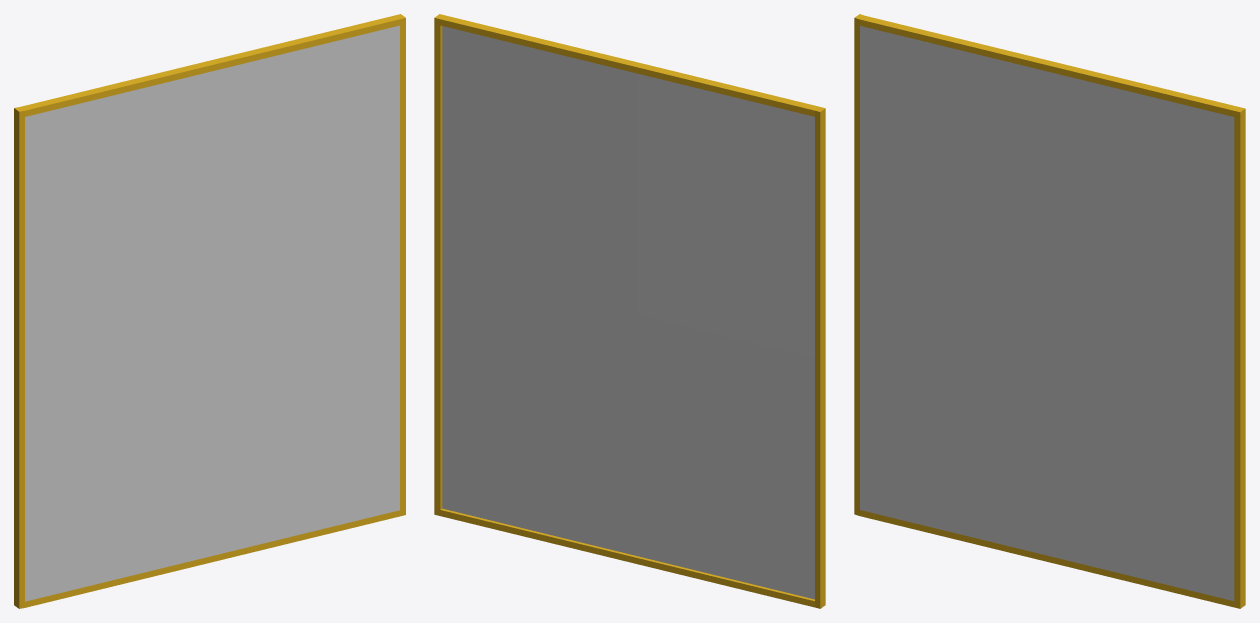
File: Painting_Simple_20x24.fbx
The picture shows the model from 3 angles, left to right: view 1: azimuth 30°, elevation 25°; view 2: azimuth 150°, elevation 25°; view 3: azimuth 330°, elevation 25°; orthographic projection.
Visible parts, largest first — view 1: Painting_Simple_20x24; view 2: Painting_Simple_20x24; view 3: Painting_Simple_20x24.
Boxes of the visible parts, x1=… form: Painting_Simple_20x24: x1=14, y1=14, x2=405, y2=608; Painting_Simple_20x24: x1=434, y1=14, x2=825, y2=608; Painting_Simple_20x24: x1=854, y1=14, x2=1245, y2=608.
Size of the model in its own units: 42.07 by 51.73 by 1.03.
